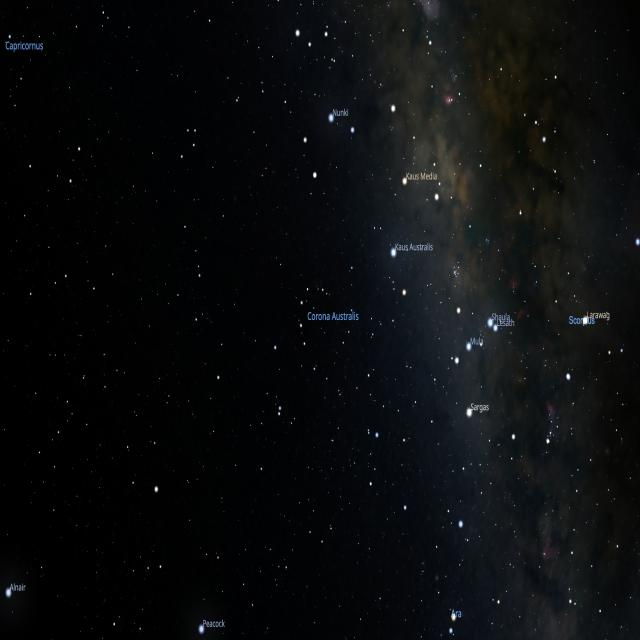Corona Australis: (294, 281, 378, 401)
